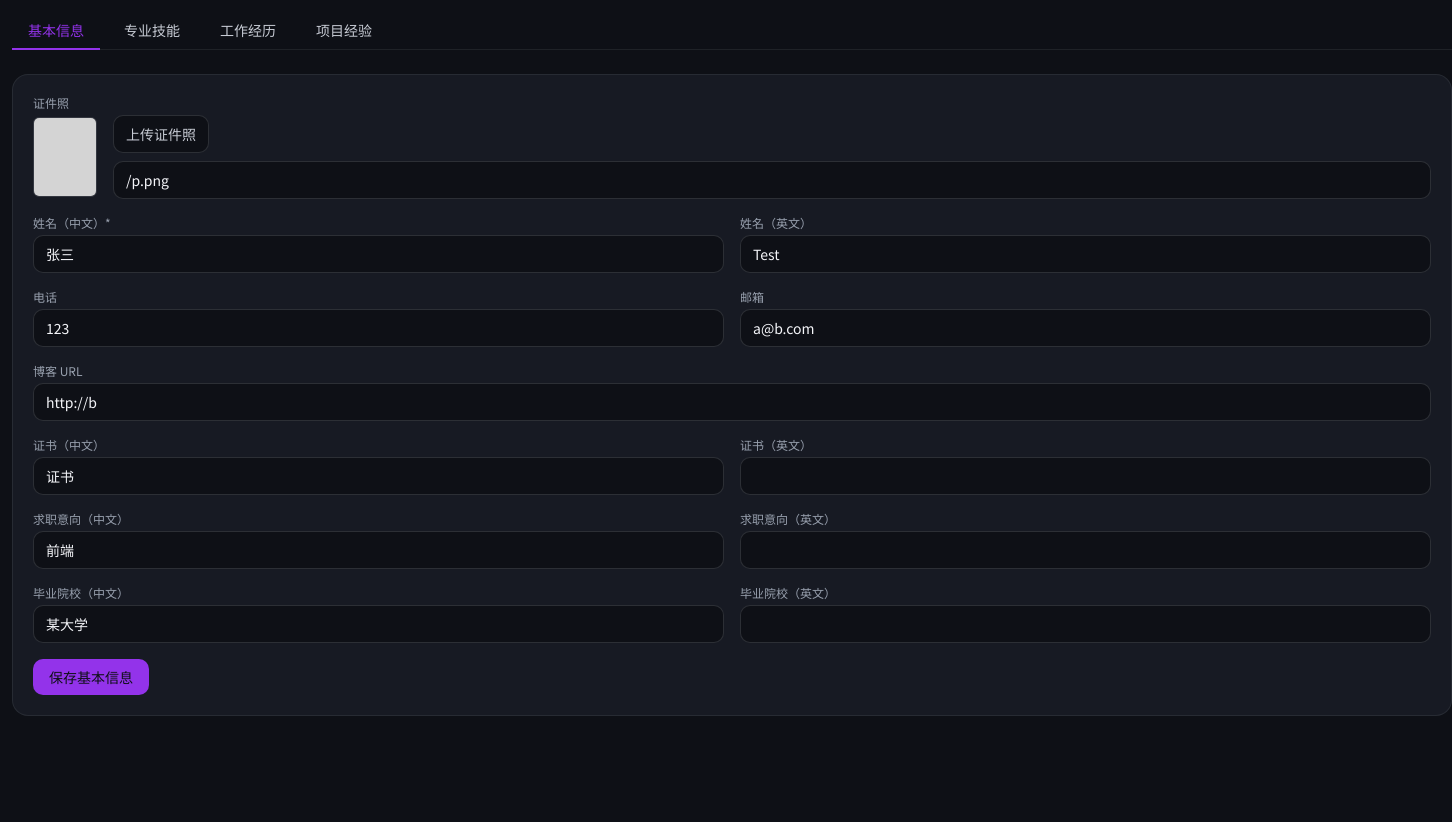
ResumeManager › 切换到专业技能 Tab 展示双语多行文本与保存按钮
The image size is (1452, 822).
What coordinates should you click on to do the following:
click the button "专业技能"
I would click on:
 (152, 31)
Its box is [108,12,196,50].
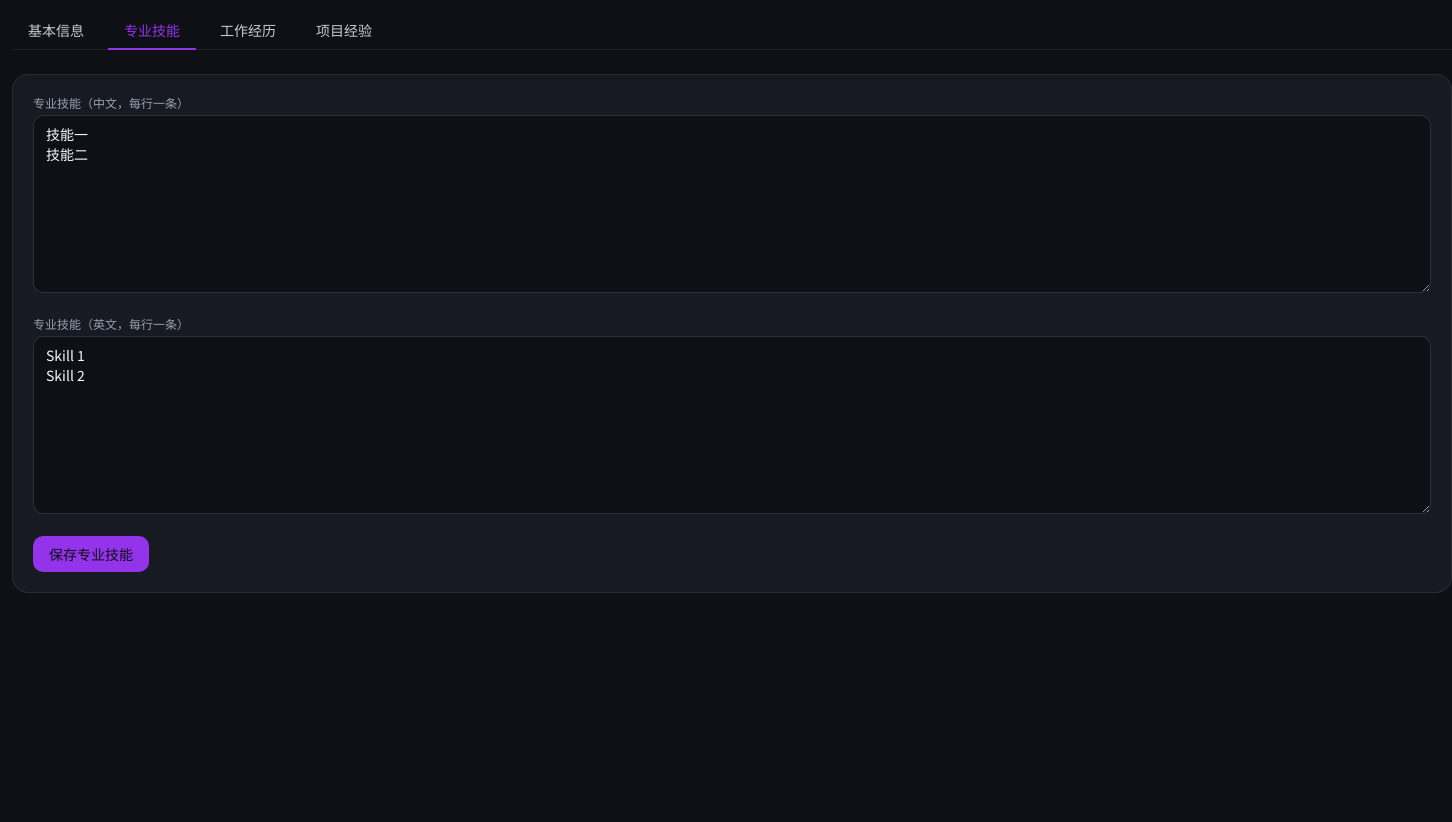
Check: the button "保存专业技能" is shown, box [33,536,149,572]
